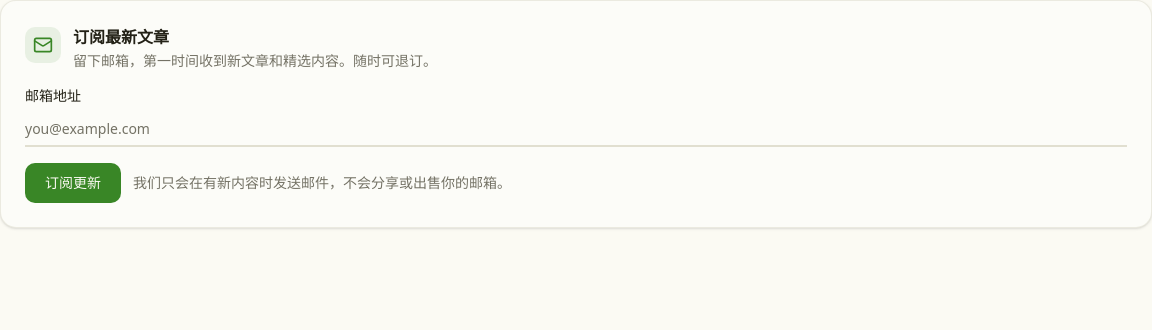
Test case: SubscribeForm › handles api error response
Type "user@example.com" into the field with test id "email-input" at [576, 129], box x1=25 y1=111 x2=1127 y2=147
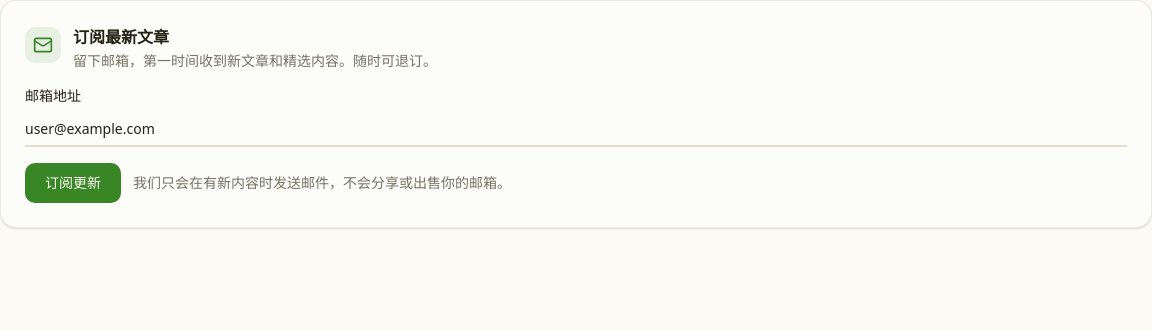
Click the button "订阅更新" at [73, 183], box x1=25 y1=163 x2=121 y2=203
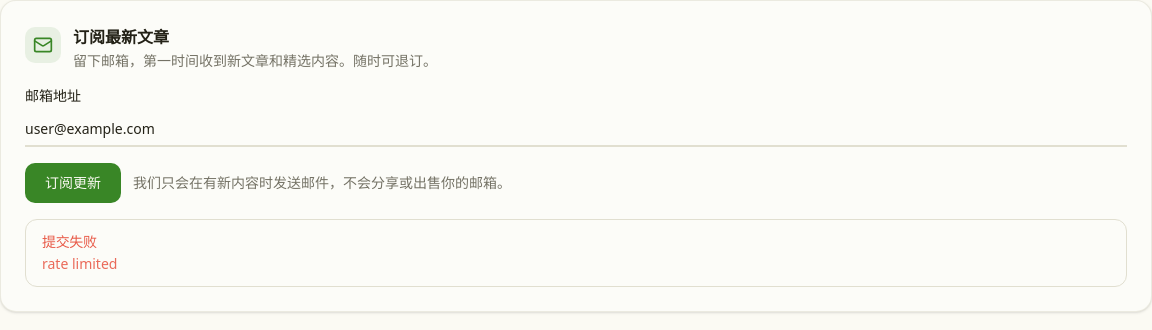
Check: the message "提交失败 rate limited" is shown, box x1=25 y1=219 x2=1127 y2=287
Check: the text "rate limited" is shown, box x1=42 y1=254 x2=117 y2=273
